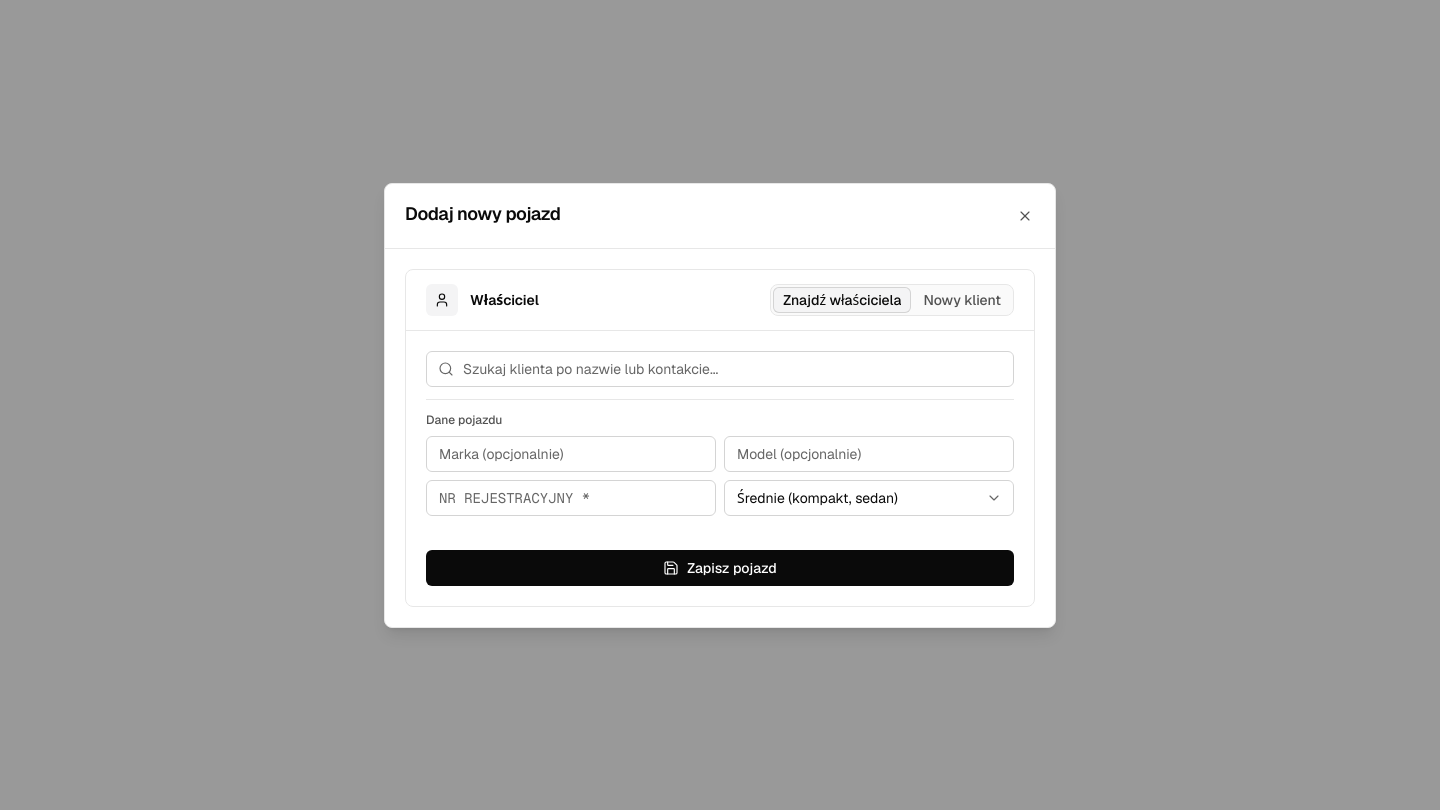
Test: AddVehicleModal › asks for an owner before saving the vehicle
The width and height of the screenshot is (1440, 810).
Type "WX1234A" into the field with placeholder "Nr rejestracyjny *". click: (571, 498)
box: [426,480,716,516]
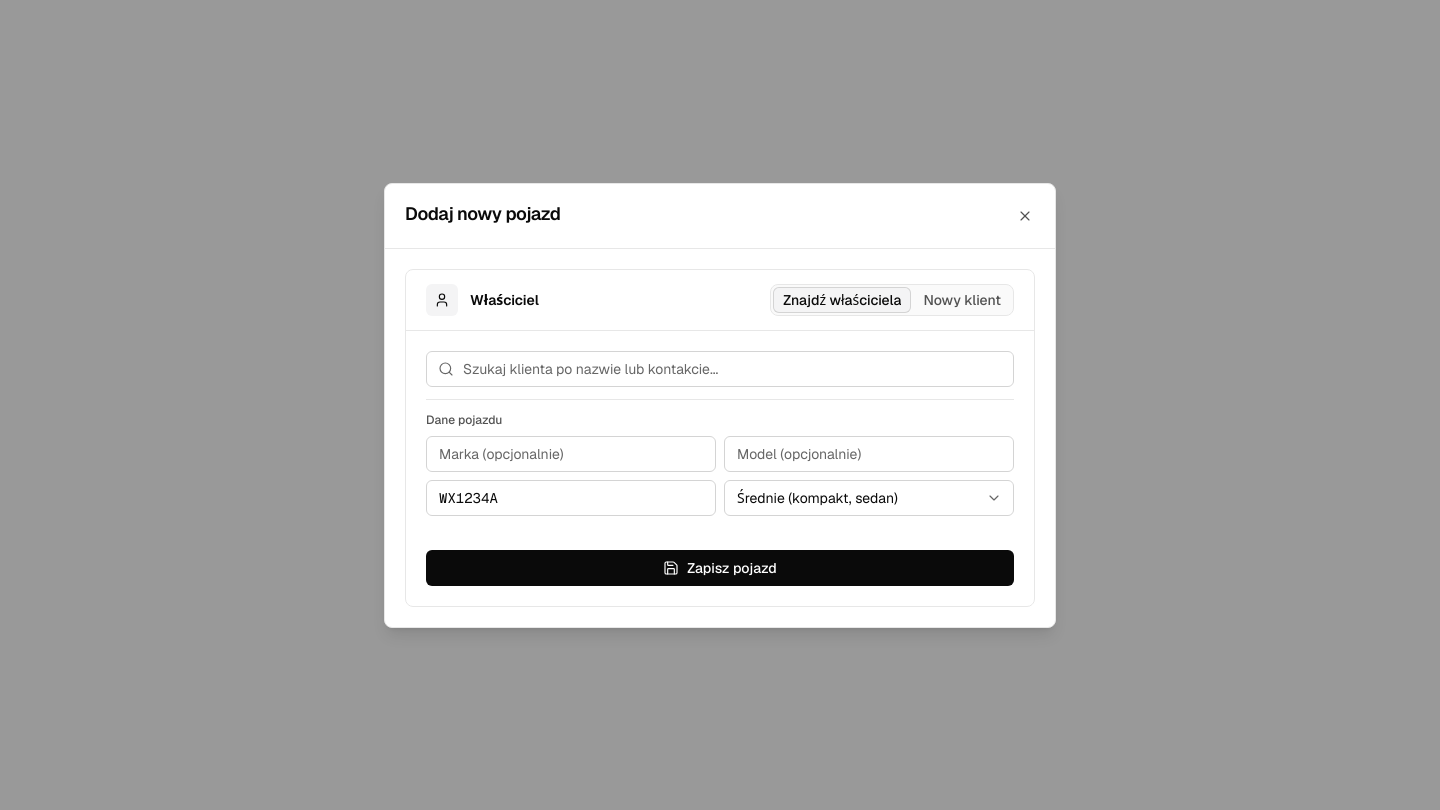
Click the button "Zapisz pojazd". click: click(720, 568)
box: [426,550,1014,586]
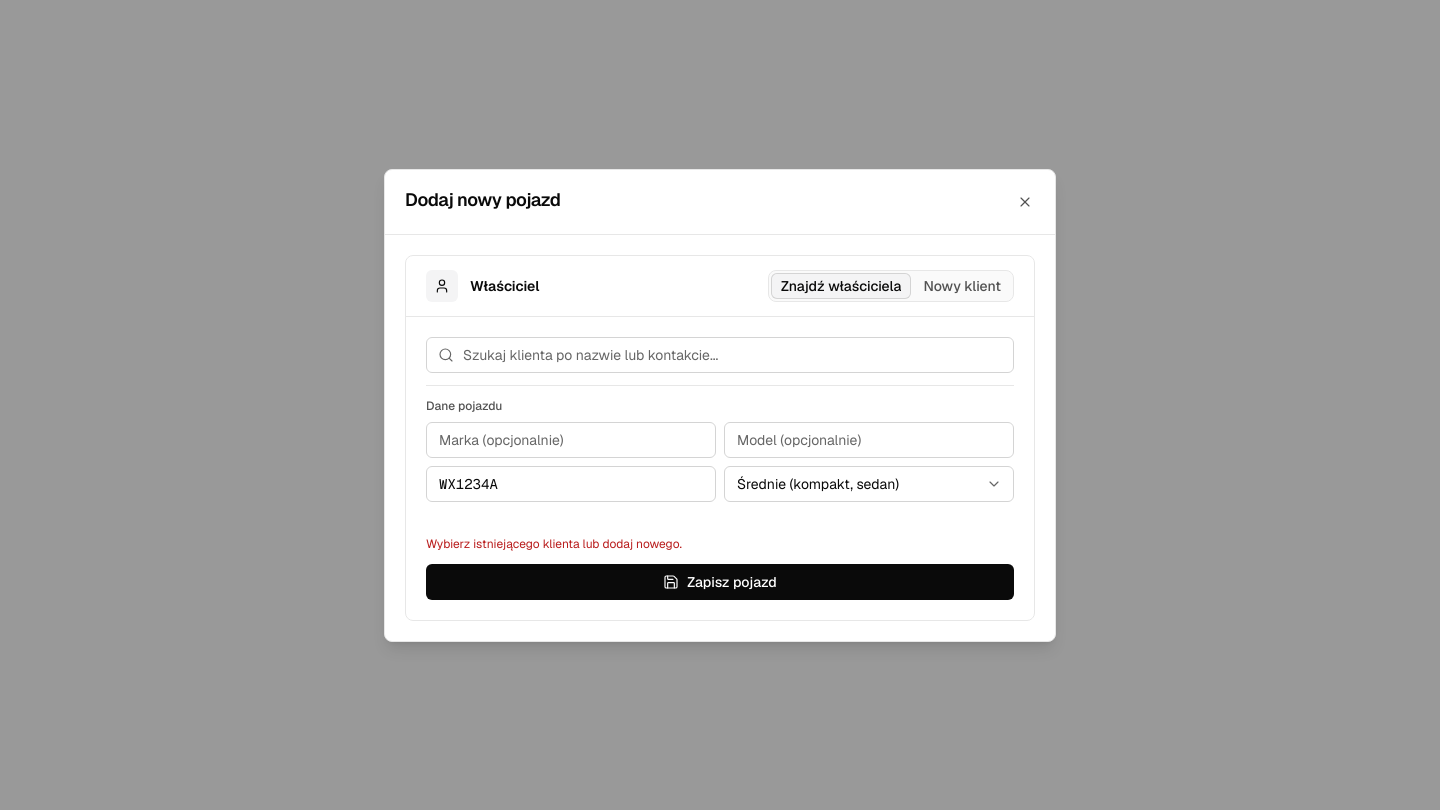
Check: the text "Wybierz istniejącego klienta lub dodaj nowego." is shown, box [426,536,682,552]
